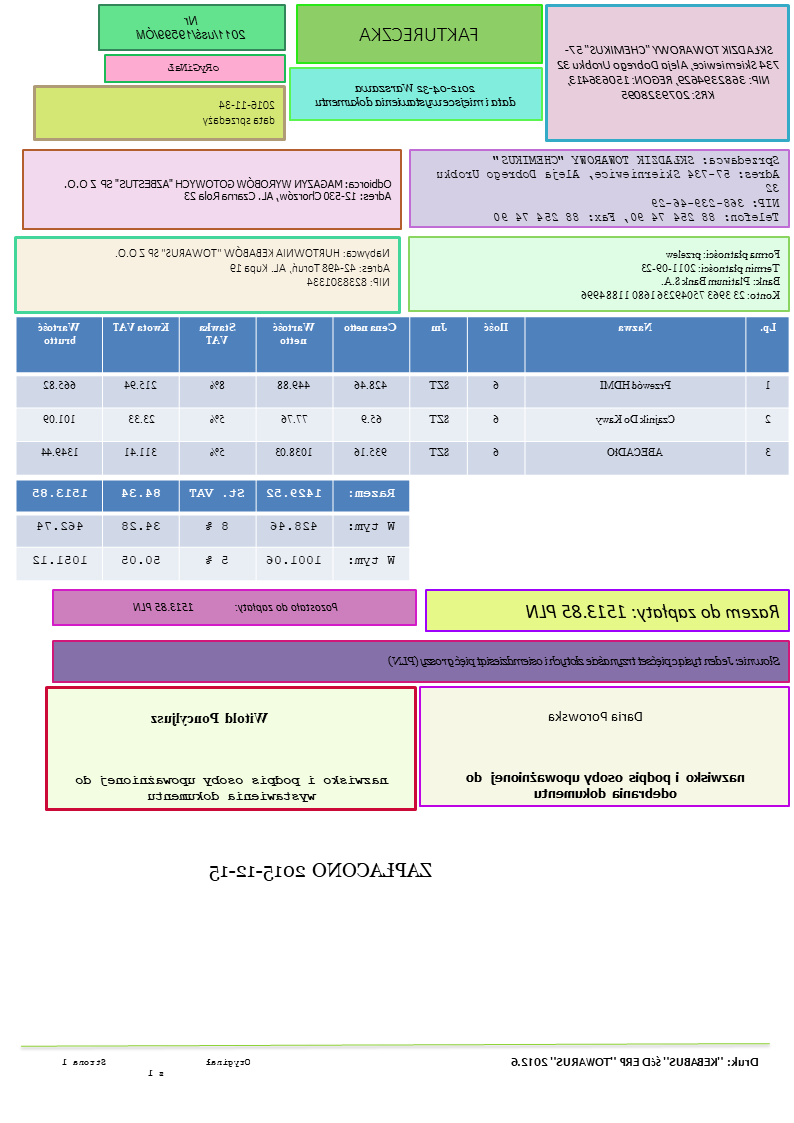Table: (15, 315, 791, 477), (14, 479, 413, 581)
TextBox: (433, 150, 783, 224), (555, 40, 782, 104), (578, 244, 785, 302), (114, 245, 393, 288), (75, 772, 393, 804), (62, 176, 394, 204), (463, 770, 750, 802), (387, 649, 784, 672), (524, 597, 784, 621), (311, 81, 519, 110), (207, 859, 437, 885), (506, 1050, 763, 1071), (57, 1056, 253, 1079), (134, 11, 250, 43), (131, 598, 343, 614), (355, 23, 483, 46), (146, 708, 272, 728), (201, 97, 278, 128), (544, 704, 647, 725), (164, 59, 223, 74)
